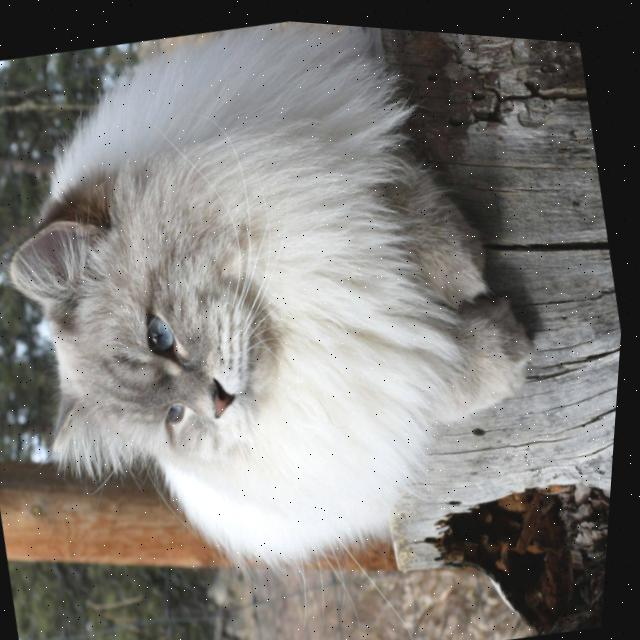Neva Masquerade: (0, 0, 593, 638)
